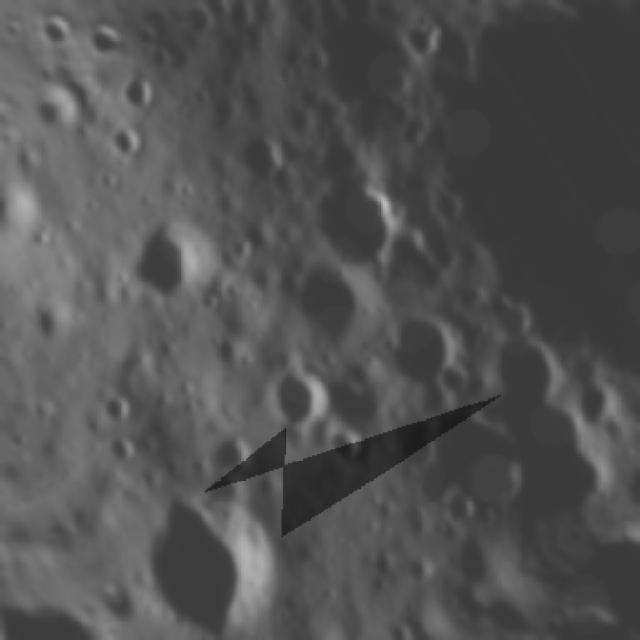crater: (371, 13, 640, 405), (101, 454, 325, 640), (294, 156, 429, 296), (267, 231, 398, 369), (357, 280, 485, 411), (456, 310, 584, 439), (109, 196, 231, 319), (235, 337, 352, 458), (311, 407, 386, 481), (196, 410, 264, 487), (0, 160, 55, 251), (94, 110, 161, 176), (106, 55, 171, 119), (544, 507, 596, 550), (624, 316, 640, 434)
